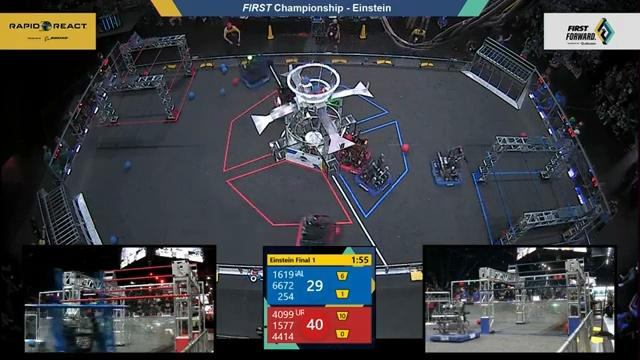robot: (293, 210, 344, 249), (427, 139, 465, 191), (334, 129, 375, 171), (235, 51, 274, 88), (355, 159, 395, 195)
